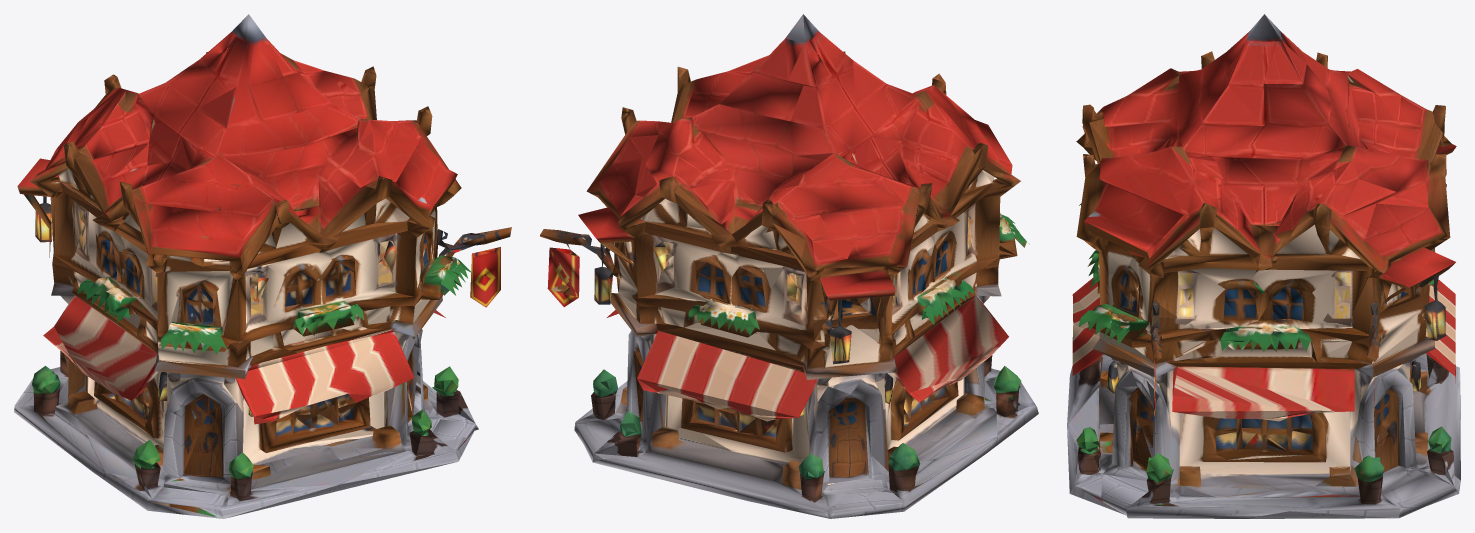
File: building_corner.fbx
The picture shows the model from 3 angles, left to right: view 1: azimuth 30°, elevation 25°; view 2: azimuth 150°, elevation 25°; view 3: azimuth 270°, elevation 25°; orthographic projection. The views are drawn at different scales.
Visible parts, largest first — view 1: building_corner; view 2: building_corner; view 3: building_corner.
Boxes of the visible parts, <box> form: building_corner: <box>14,14,511,518</box>; building_corner: <box>540,14,1038,518</box>; building_corner: <box>1067,14,1460,518</box>.
Bounding box in the file's own units: 6 × 6.17 × 5.23.
1 material, 1 textured.
